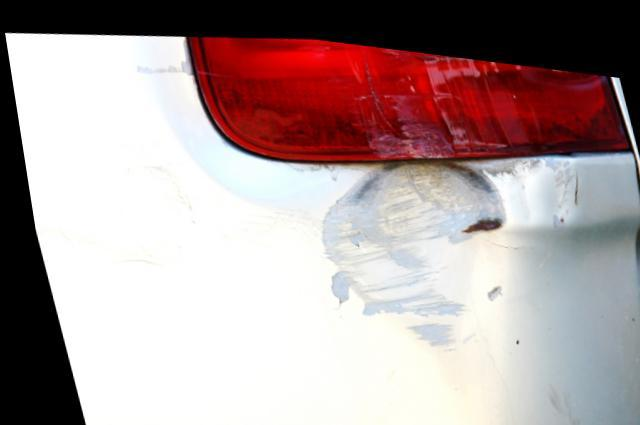dent: (316, 149, 501, 335)
lamp broken: (187, 31, 628, 155)
scratch: (461, 143, 573, 225)
